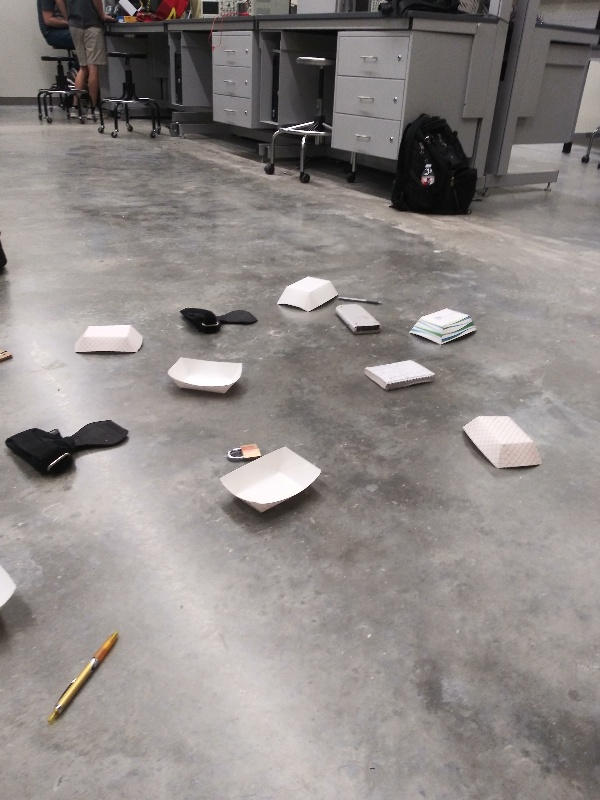plate: (214, 439, 324, 519), (457, 412, 543, 477), (163, 354, 246, 400), (405, 301, 479, 349), (73, 318, 145, 361), (273, 273, 340, 312), (1, 552, 19, 633)
